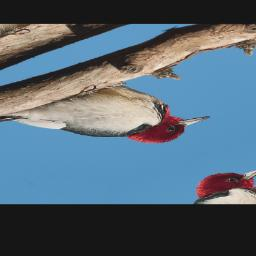Woodpecker: (0, 64, 219, 184)
